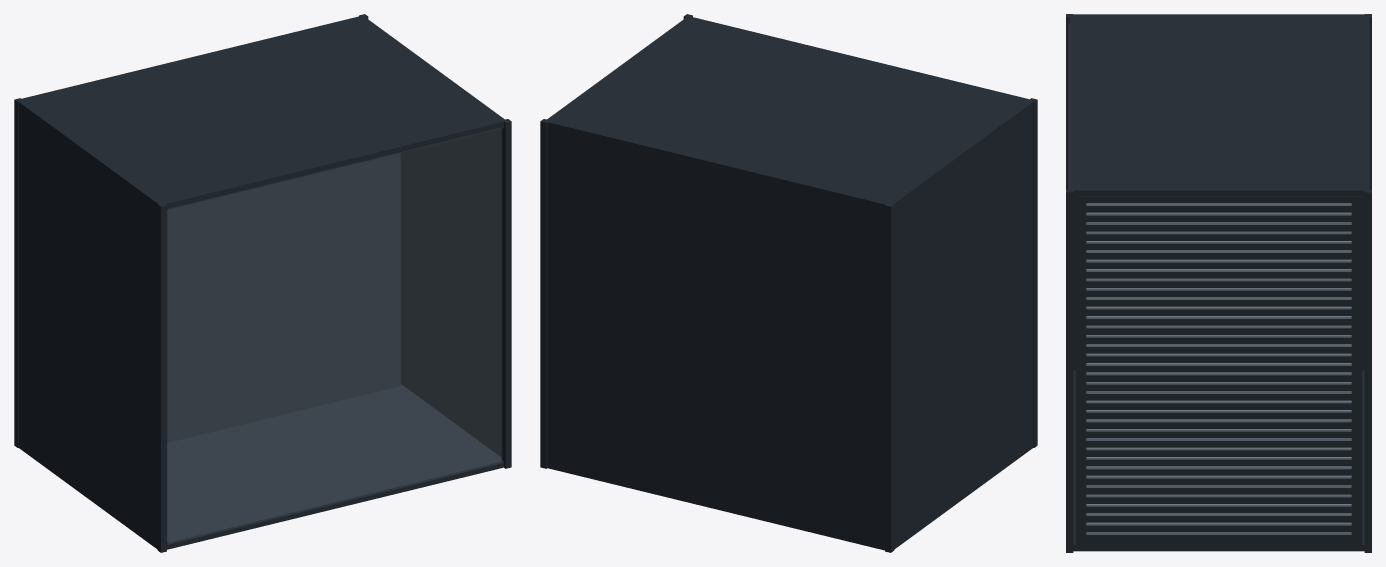
File: retail-lian-li-o11-air-mini-black.glb
3 views of the same model, side by side, from view 1: azimuth 30°, elevation 25°; view 2: azimuth 150°, elevation 25°; view 3: azimuth 270°, elevation 25° (orthographic). The views are drawn at different scales.
Visible parts, largest first — view 1: Side panel, Motherboard tray, Top, Rear, Base, Front panel, Frame rail (×3), Back; view 2: Back, Rear, Top, Frame rail (×3); view 3: Front panel, Top, Mesh opening (×36), Frame rail (×4), Base, Rear, Back.
Boxes of the visible parts, x1,y1,x2,y2 form: Side panel: [167, 128, 501, 542]; Motherboard tray: [167, 153, 400, 442]; Top: [23, 16, 506, 209]; Rear: [17, 99, 161, 549]; Base: [167, 384, 503, 549]; Front panel: [400, 128, 501, 457]; Frame rail (×3): [14, 98, 511, 552]; Back: [18, 15, 362, 100]; Back: [545, 121, 888, 550]; Rear: [890, 99, 1033, 549]; Top: [545, 16, 1029, 204]; Frame rail (×3): [540, 98, 1037, 552]; Front panel: [1076, 196, 1361, 546]; Top: [1069, 15, 1368, 197]; Mesh opening (×36): [1086, 203, 1351, 534]; Frame rail (×4): [1066, 14, 1371, 552]; Base: [1073, 370, 1364, 551]; Rear: [1069, 14, 1368, 370]; Back: [1366, 15, 1369, 190].
Size of the model in its own units: 0.407 by 0.384 by 0.295.
